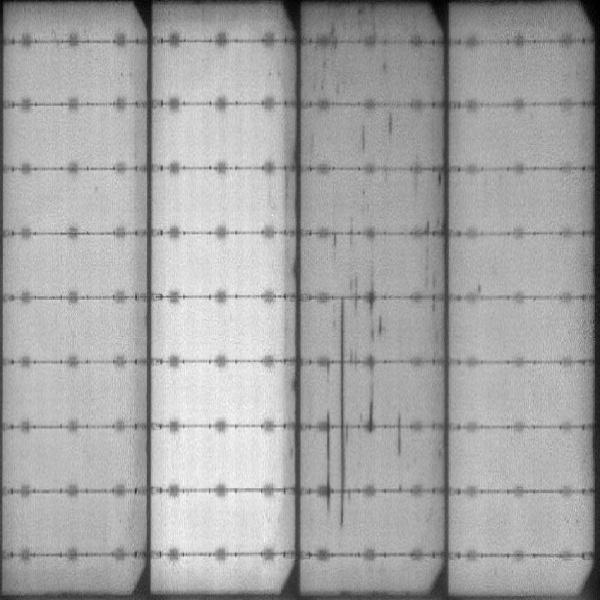scratch: (338, 294, 349, 526), (367, 264, 380, 437), (424, 214, 439, 320), (322, 407, 334, 511), (396, 410, 406, 456), (359, 118, 367, 154), (333, 223, 341, 259), (387, 112, 396, 141)
